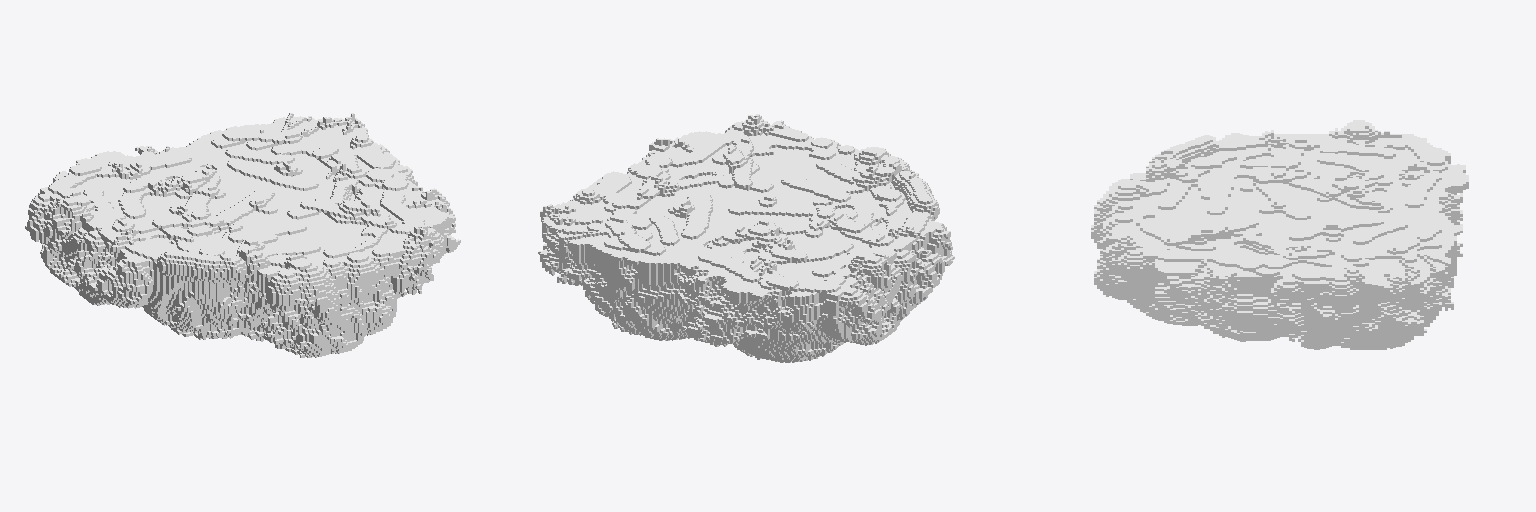
File: platform-1.obj
3 views of the same model, side by side, from view 1: azimuth 30°, elevation 25°; view 2: azimuth 150°, elevation 25°; view 3: azimuth 270°, elevation 25° (orthographic).
Visible parts, largest first — view 1: object 1; view 2: object 1; view 3: object 1.
Boxes of the visible parts, x1=… form: object 1: x1=25, y1=113, x2=460, y2=357; object 1: x1=538, y1=114, x2=954, y2=362; object 1: x1=1091, y1=120, x2=1468, y2=349.
Bounding box in the file's own units: 12.6 × 4.7 × 12.4.